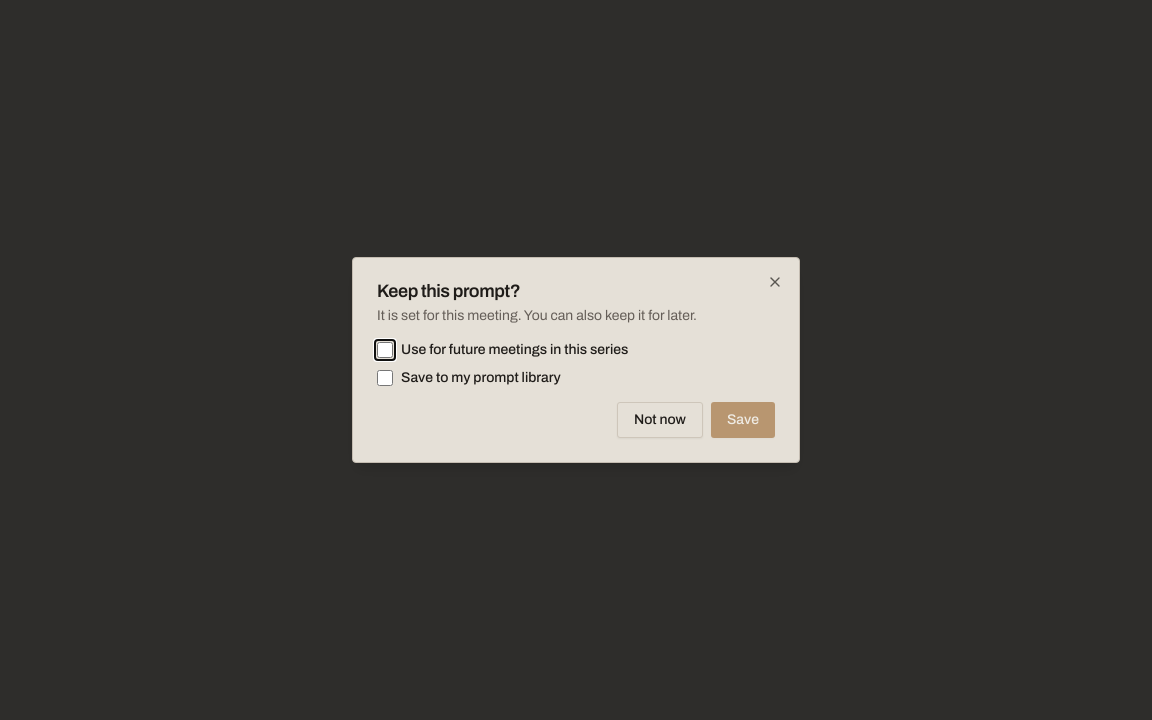
Test: SaveOneOffDialog (specs/0079 W4) › disables Save until something is checked
Check: the button "Save" is disabled, box [711,402,775,438]
Step 1. Click the checkbox labelled "Use for future meetings in this series" → (385, 350), box [377,342,393,358]
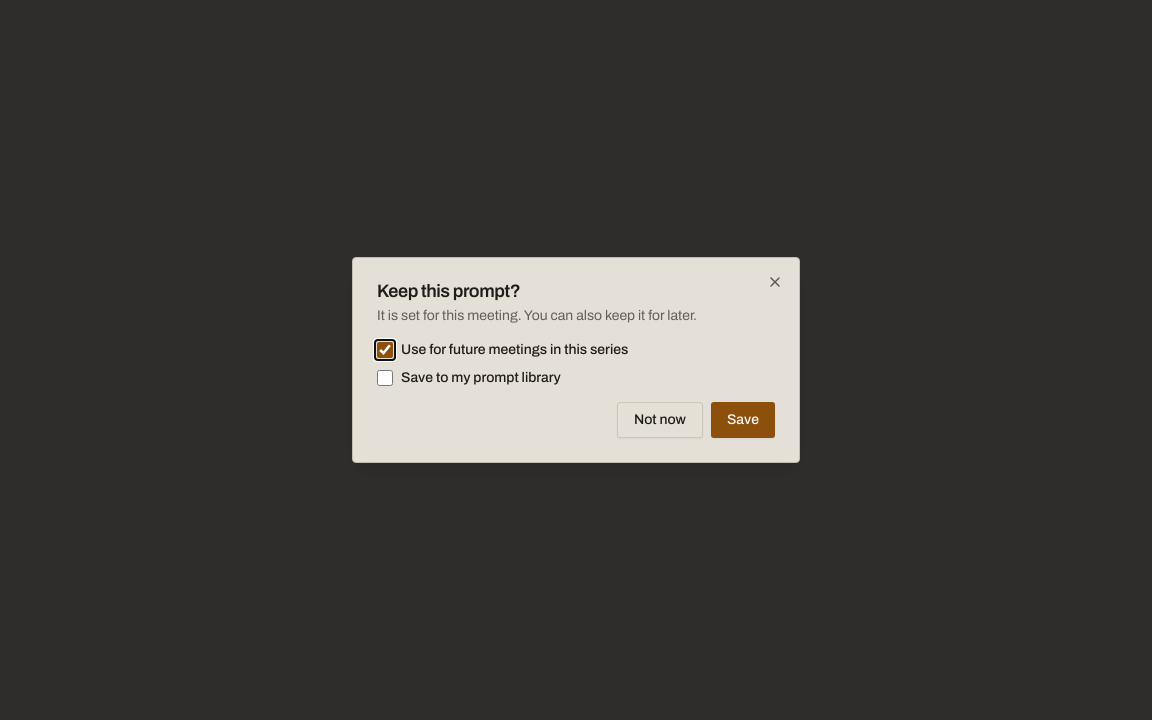
Check: the button "Save" is enabled, box [711,402,775,438]
